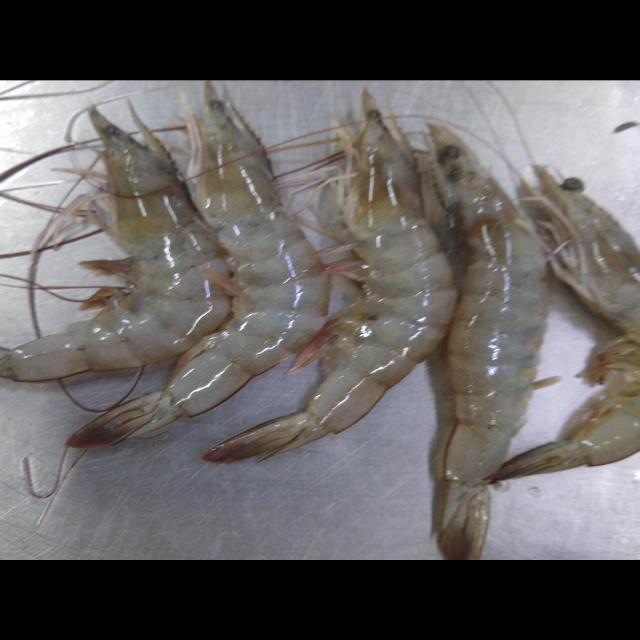shrimp: (67, 81, 330, 448), (204, 95, 458, 463), (0, 107, 230, 382), (429, 124, 549, 560), (485, 166, 640, 485)
